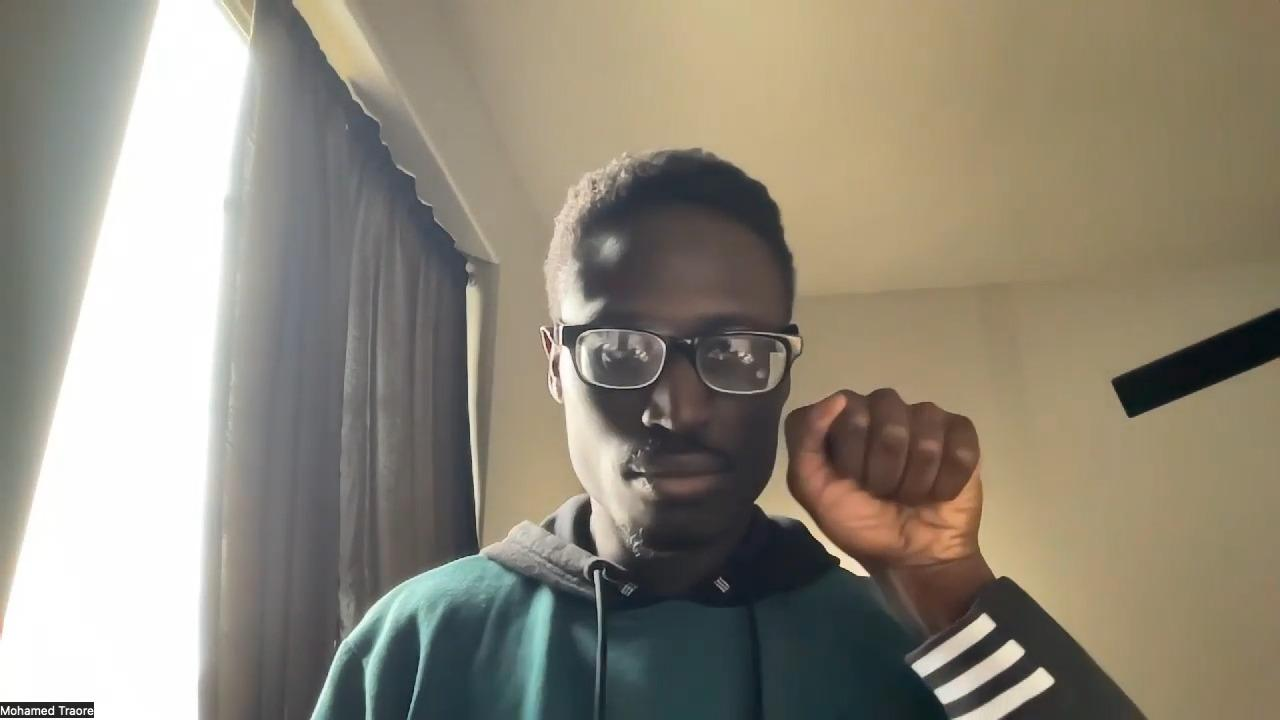Rock: (783, 390, 983, 563)
